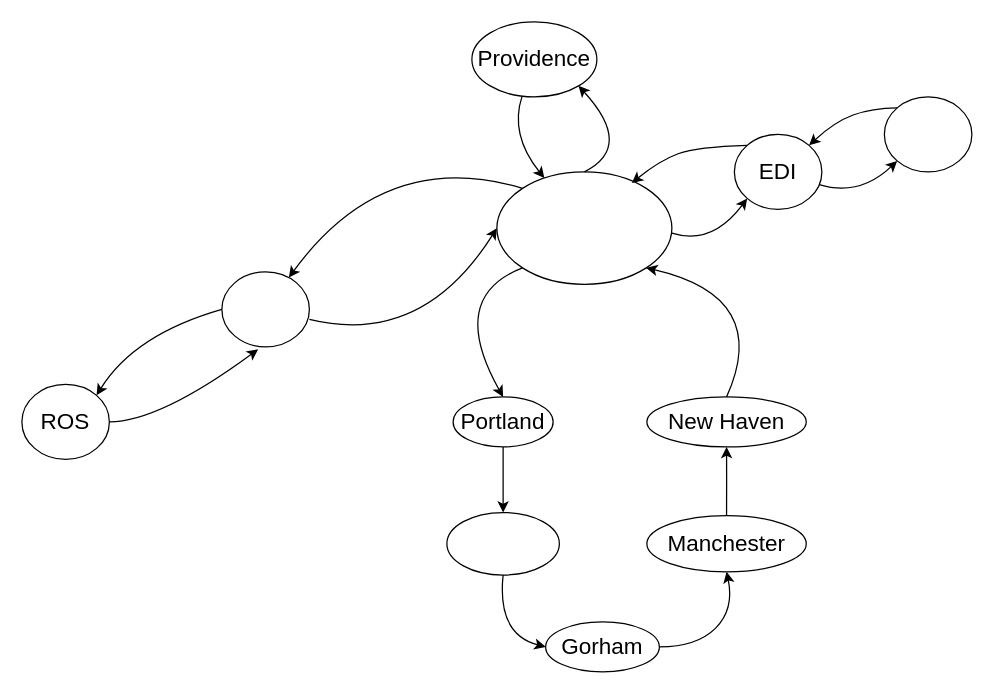
The diagram is 994 pixels wide and 694 high, and some of its shapes have lost their labels. Here are the shapes that lost their labels. From the top down, the centre of each, then its label:
pixel 927 134: ABZ
pixel 584 227: BOS
pixel 265 309: DFW
pixel 502 543: Bar Harbor
